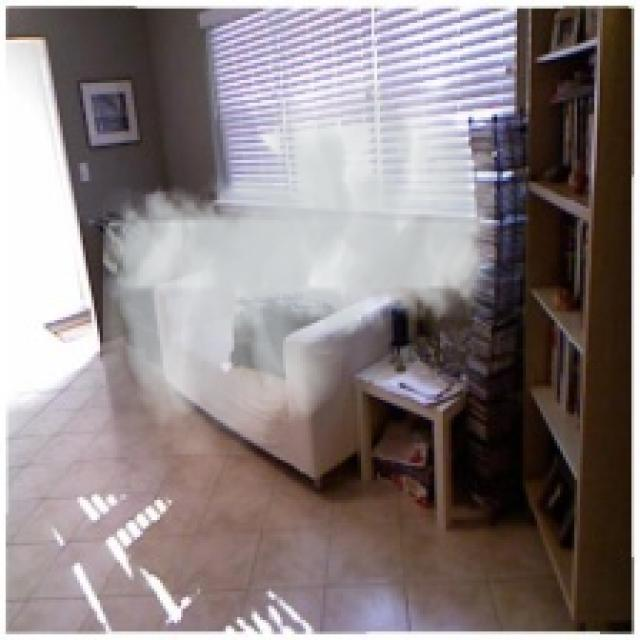Smoke: (102, 54, 494, 454)
